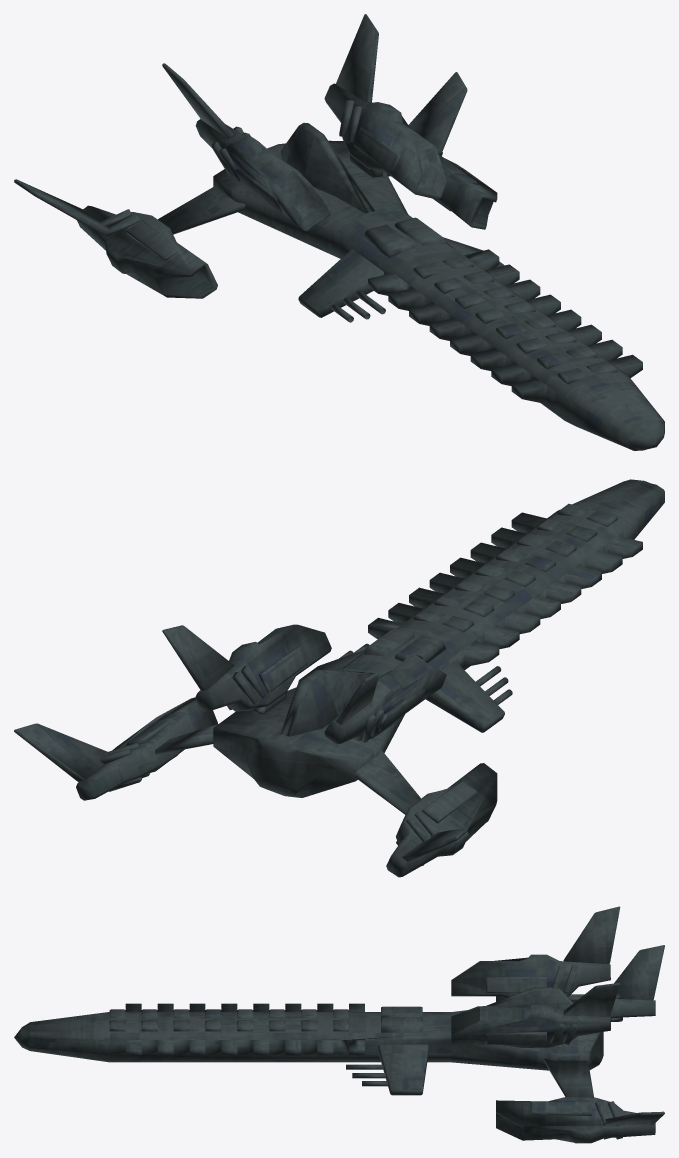
Rendered from tesla.obj.
The picture shows the model from 3 angles, top to bottom: view 1: azimuth 30°, elevation 25°; view 2: azimuth 150°, elevation 25°; view 3: azimuth 270°, elevation 25°; orthographic projection. The views are drawn at different scales.
Bounding box in the file's own units: 1496 × 563 × 2447.
